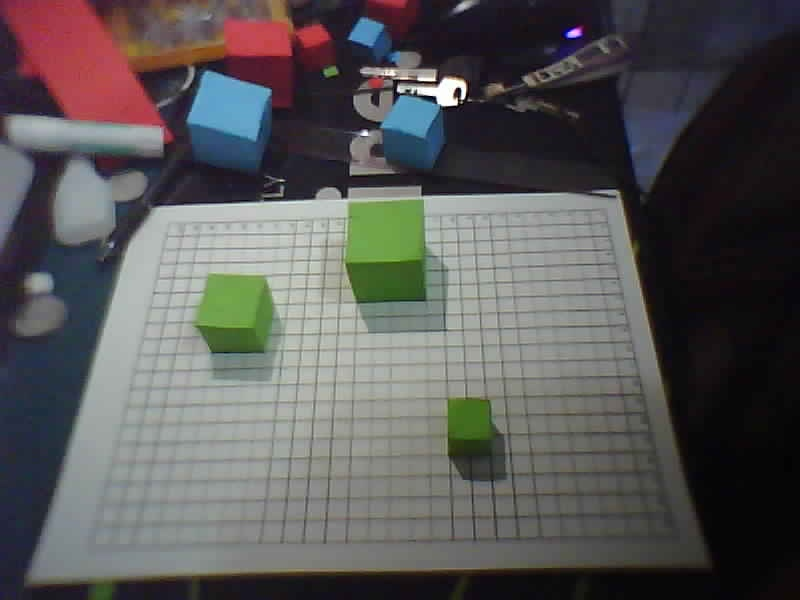LB: (88, 541, 96, 547)
LT: (166, 219, 174, 225)
RB: (674, 536, 682, 542)
RT: (603, 206, 611, 212)
